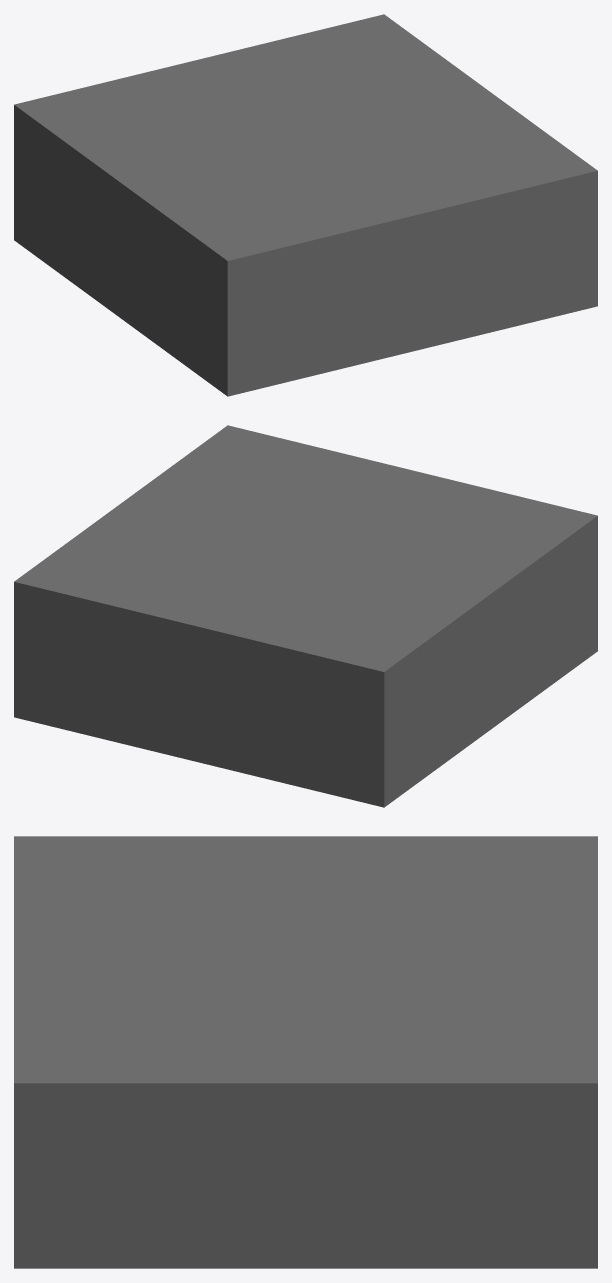
Rendered from Itr_Obj_Stickynote_Box_05.FBX.
3 views of the same model, one above another, from view 1: azimuth 30°, elevation 25°; view 2: azimuth 150°, elevation 25°; view 3: azimuth 270°, elevation 25° (orthographic). The views are drawn at different scales.
Parts seen in each view (by area): view 1: Itr_Obj_Stickynote_Box_05; view 2: Itr_Obj_Stickynote_Box_05; view 3: Itr_Obj_Stickynote_Box_05.
Part boxes in pixels (x1,y1,x2,y2): Itr_Obj_Stickynote_Box_05: [14, 14, 597, 396]; Itr_Obj_Stickynote_Box_05: [14, 425, 597, 807]; Itr_Obj_Stickynote_Box_05: [14, 836, 597, 1268].
Bounding box in the file's own units: 3.94 × 1.38 × 3.94.
